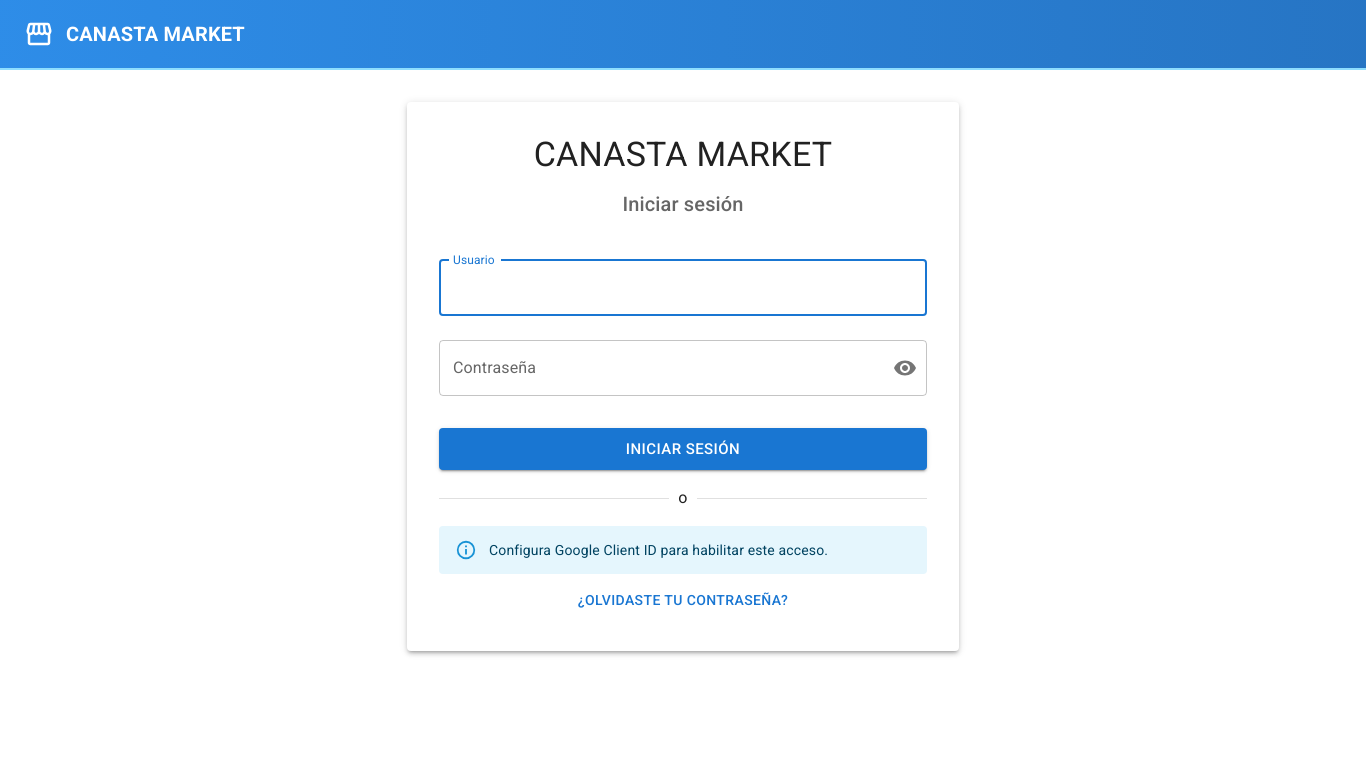
Test: LoginPage › muestra el error devuelto por autenticacion
The image size is (1366, 768).
In the field labelled "Usuario": (683, 288) [439,260,927,316], type "admin"
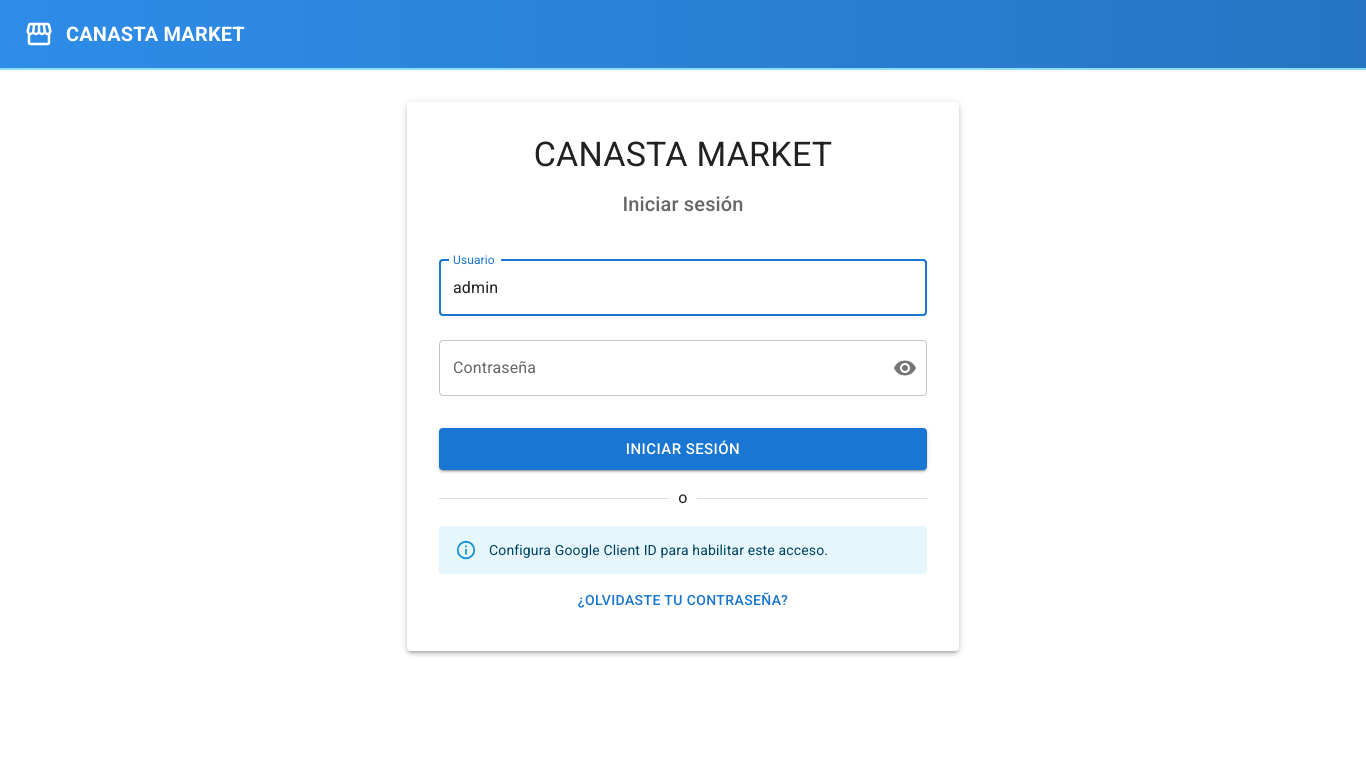
In the password field labelled "Contraseña": (658, 368) [439,340,877,396], type "incorrecta"
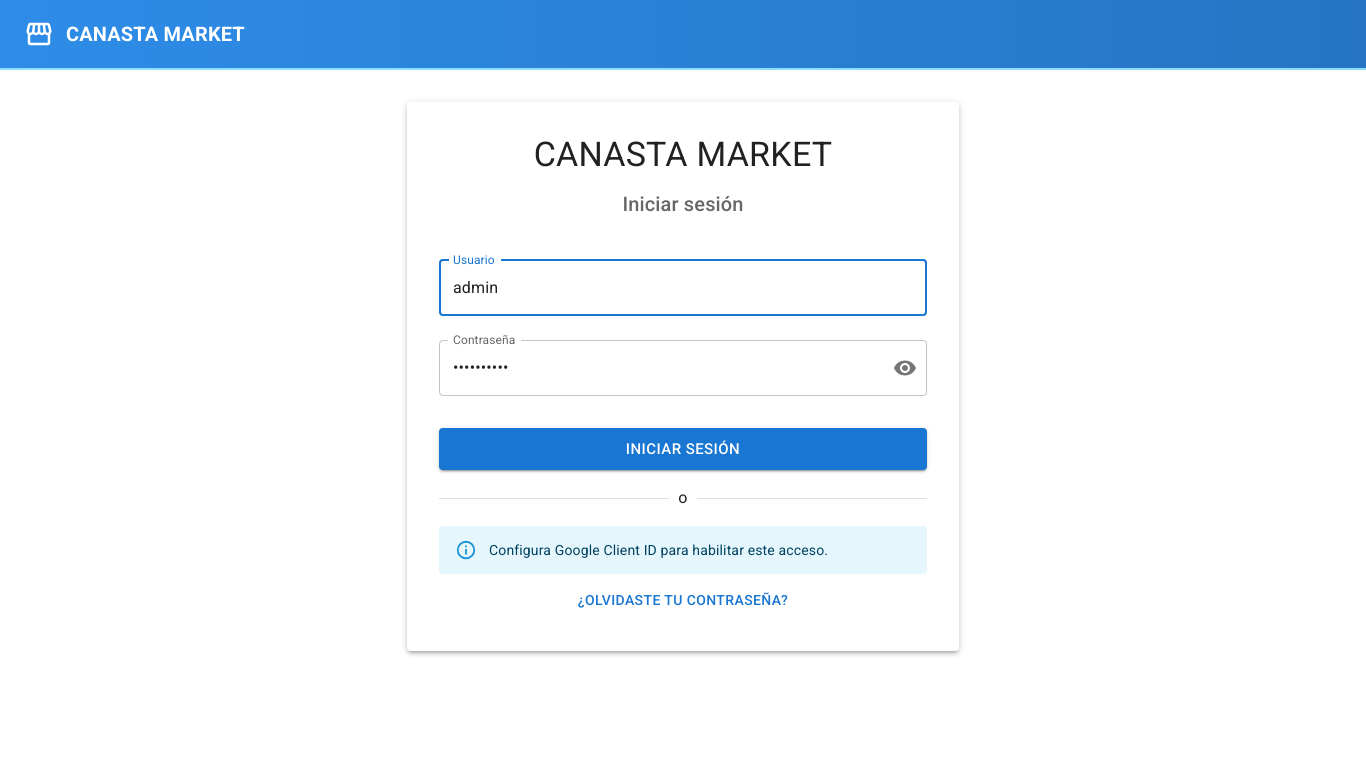
Click the button "Iniciar Sesión": (683, 449) [439,428,927,470]
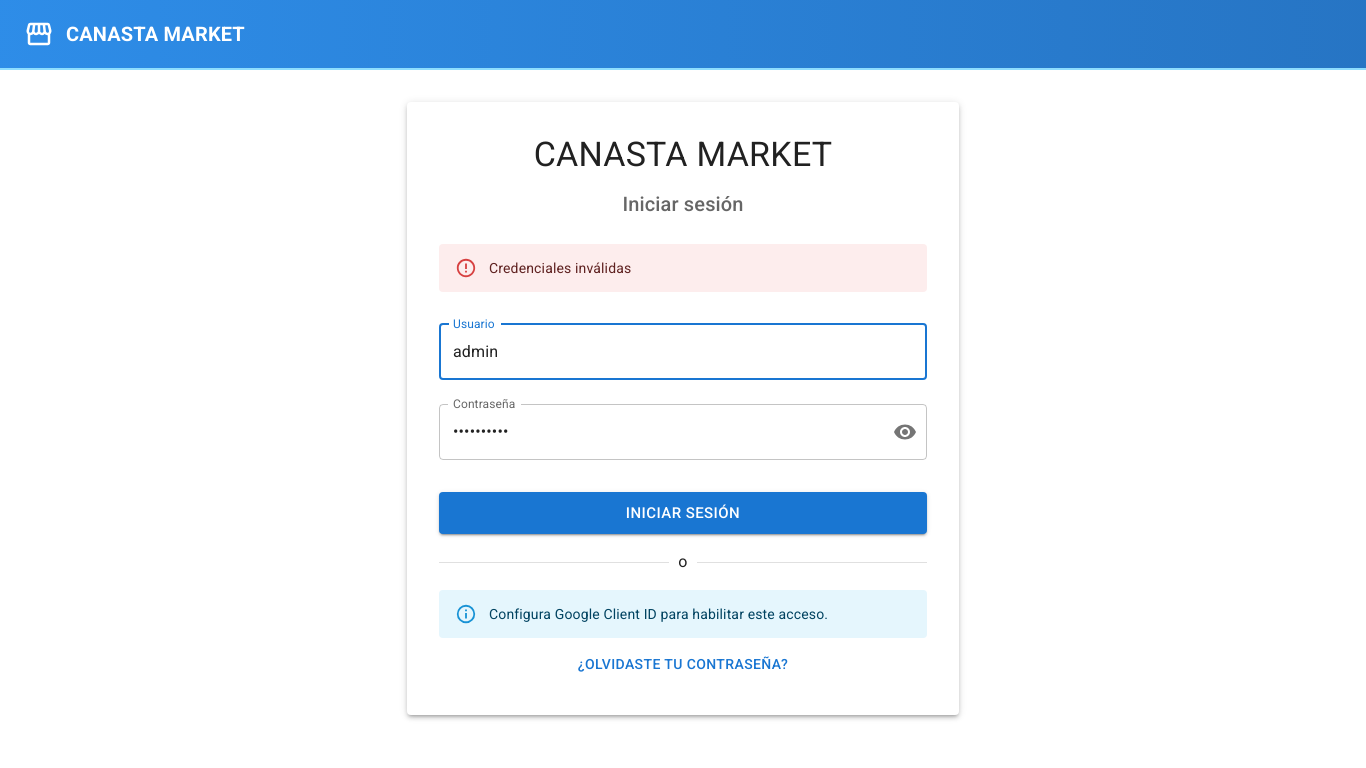
Check: the text "Credenciales inválidas" is shown, box [489,260,631,276]
